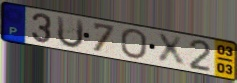2: (188, 39, 213, 73)
3: (29, 12, 53, 45)
7: (92, 22, 117, 55)
O: (119, 28, 149, 61)
U: (56, 14, 86, 50)
X: (155, 33, 187, 68)
